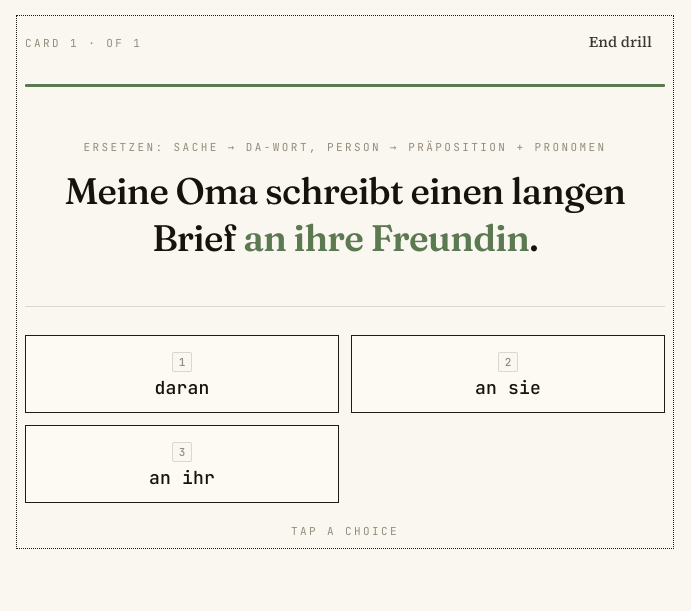
it: TransformRunner — pick mode smoke tests › reveals feedback after clicking an option
This screenshot has width=691, height=611.
Click the button with class "choice" showing "1 daran". click: (182, 374)
box: [25,335,339,413]
(page scrolled)
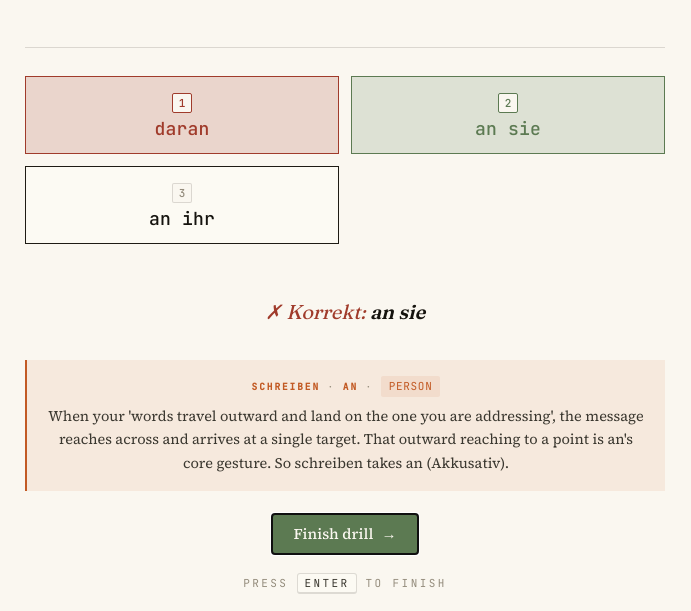
Expected: the element with class "drill-feedback" is shown, [25,268,665,555]
